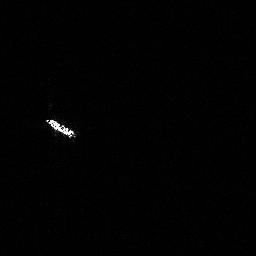ship: (42, 116, 79, 140)
